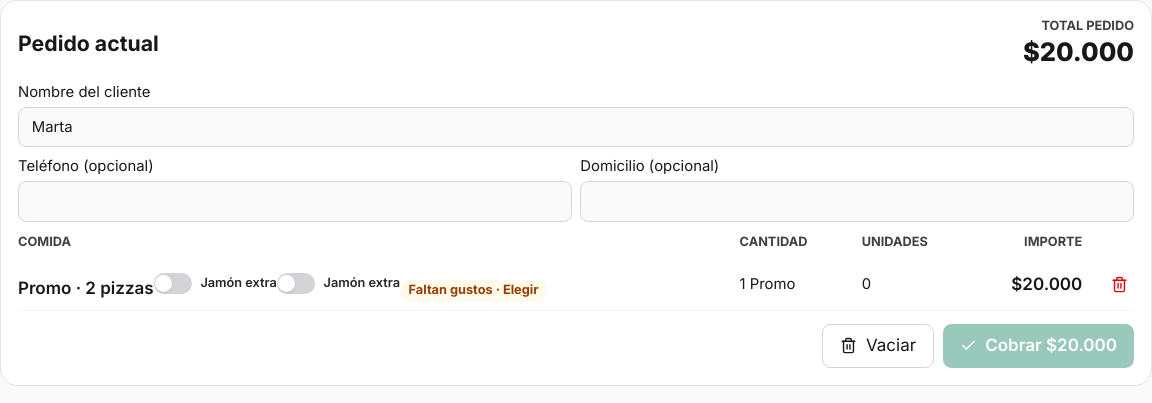
jamón extra en el carrito (US-47 CA-3 y CA-4) › cada pizza de una promo tiene su switch, que suma al precio de la promo (D-2)
The width and height of the screenshot is (1152, 403).
Click the switch named "Jamón extra (pizza 2)". click: (338, 283)
box: [277,273,400,294]
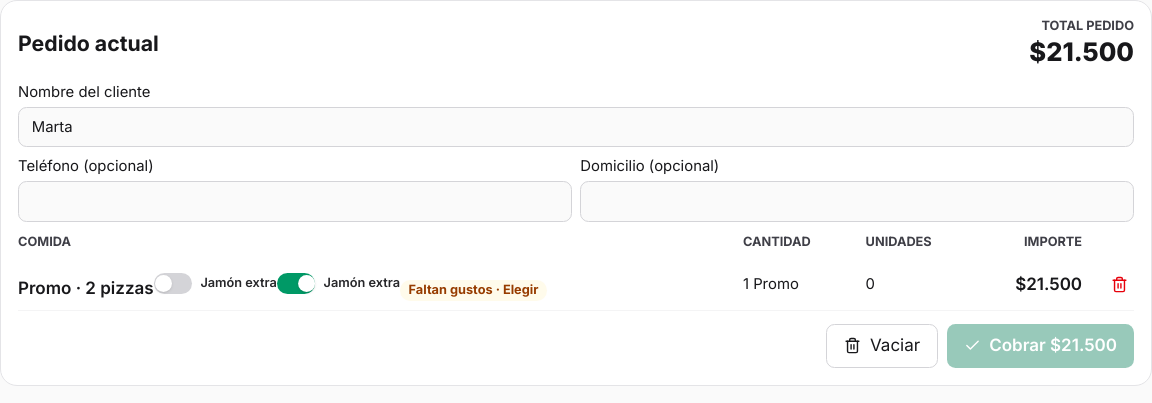
Now the text "$21.500" is shown, box [1029,36,1134,67]
